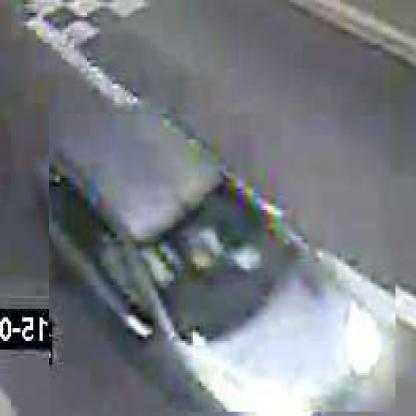car: (49, 115, 397, 415)
